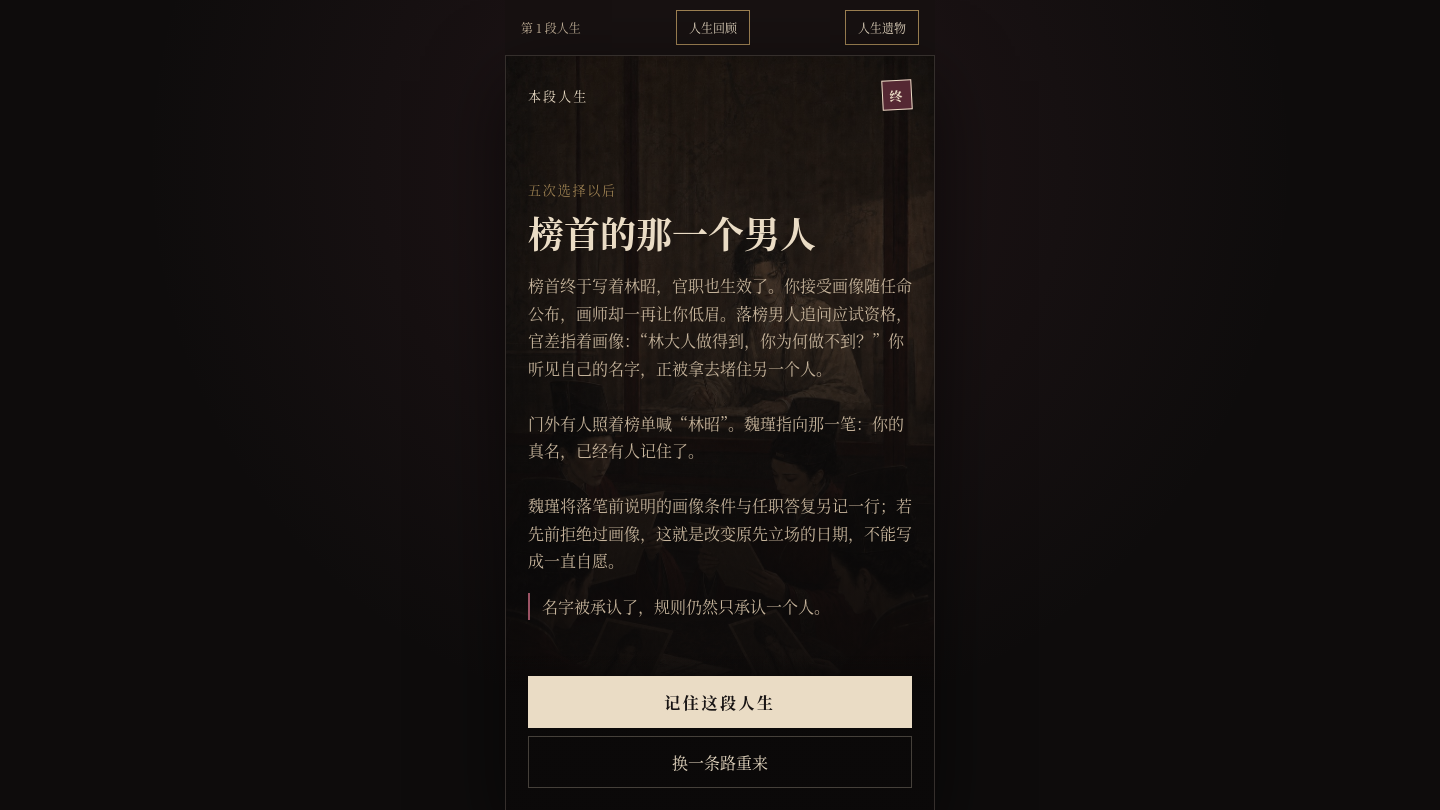
Test: lets the player read the ending before showing the already-saved relic
This screenshot has width=1440, height=810.
Expected: the heading "榜首的那一个男人" is shown, [528,207,816,258]
Click the button "记住这段人生" at [720, 702], box [528,676,912,728]
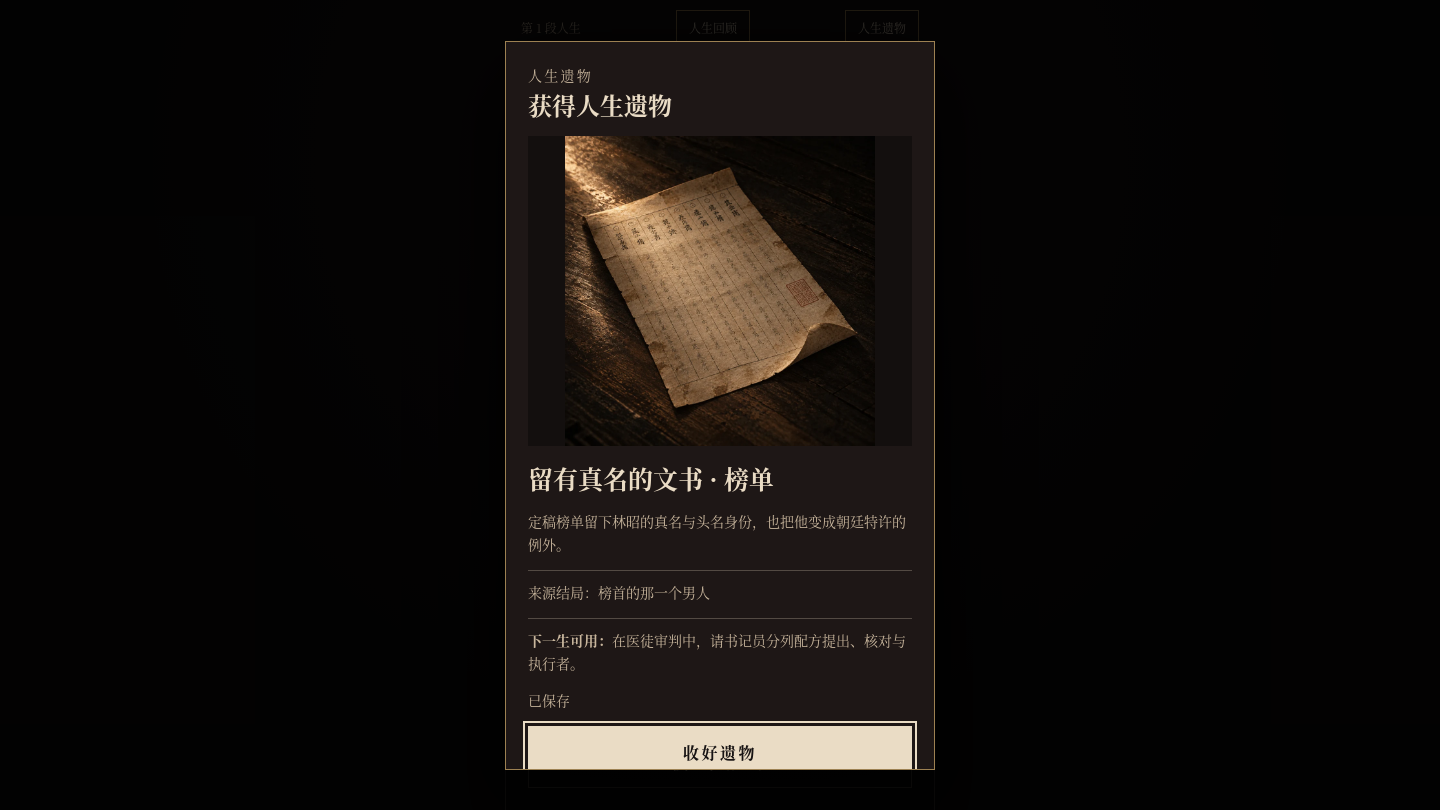
Expected: the dialog "获得人生遗物" is shown, [505,40,935,770]
Click the button "收好遗物" at [720, 752], box [528,726,912,778]
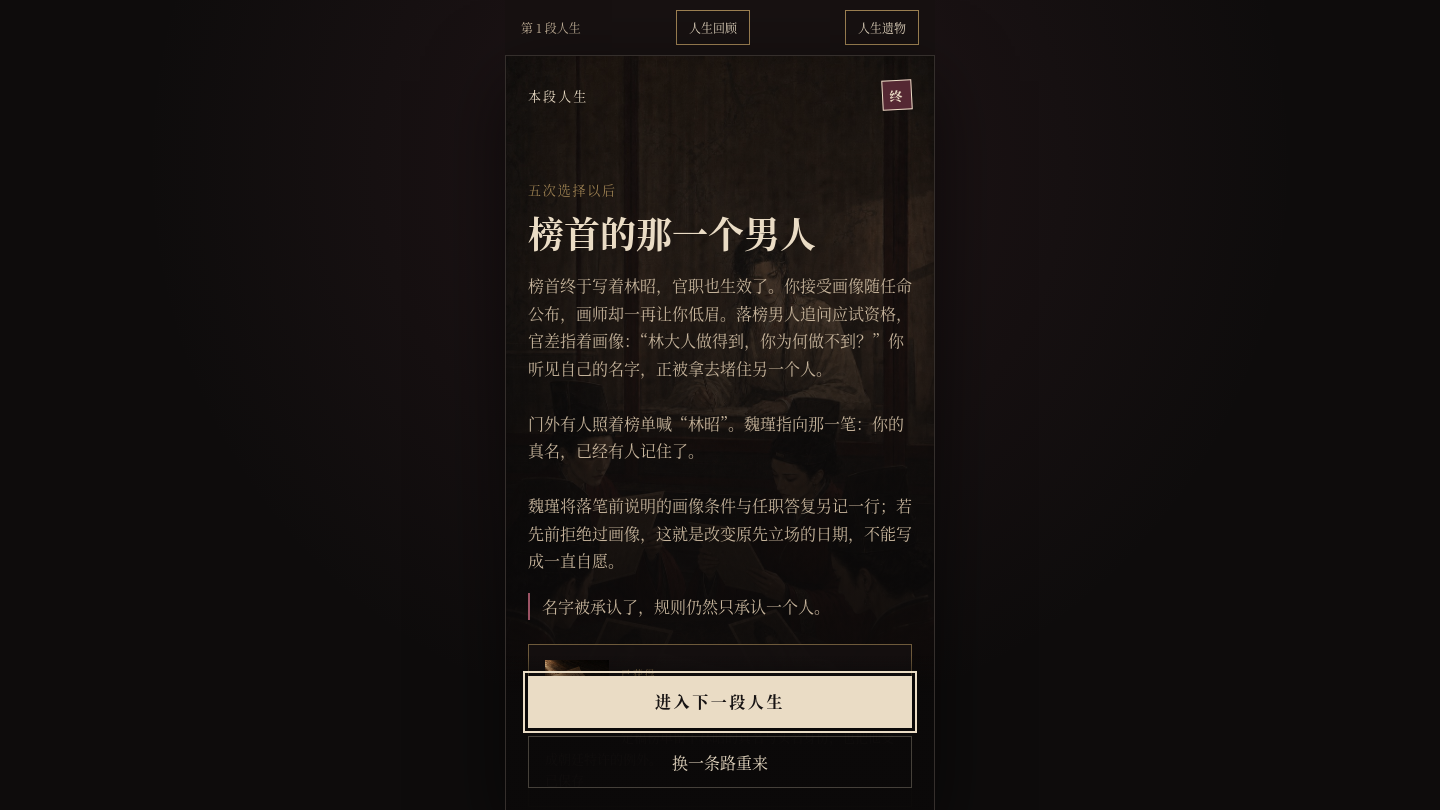
Expected: the button "进入下一段人生" is shown, [528,676,912,728]
